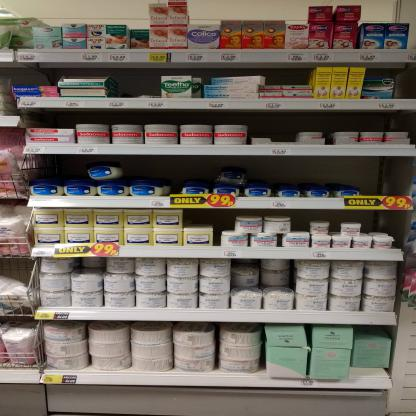Void: (255, 160, 399, 186), (38, 110, 248, 123), (128, 158, 211, 183), (303, 112, 406, 130), (231, 264, 290, 289), (40, 154, 86, 178), (251, 113, 295, 137), (121, 68, 160, 95), (320, 210, 398, 220), (166, 69, 252, 76), (272, 67, 307, 83), (16, 72, 59, 85), (191, 210, 227, 222), (214, 157, 248, 169), (369, 67, 401, 79), (290, 210, 307, 230), (237, 209, 283, 216), (78, 260, 103, 271), (90, 156, 122, 164), (365, 222, 388, 233), (361, 326, 389, 335), (333, 226, 343, 233)
